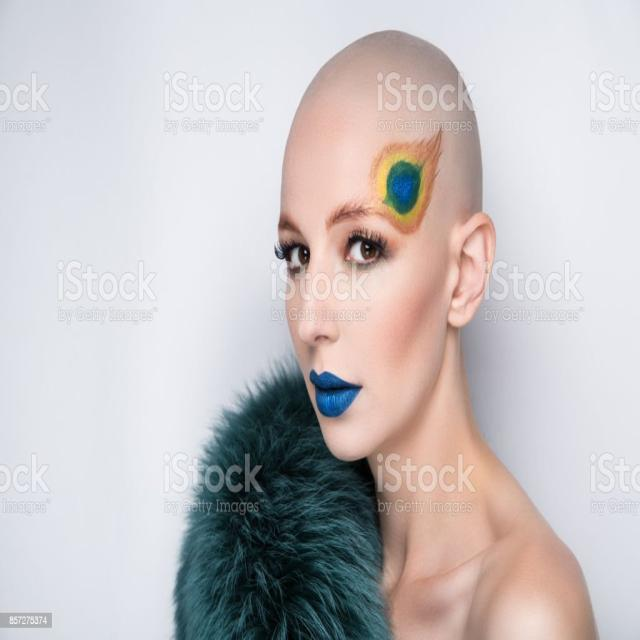no_helmet: (253, 4, 515, 238)
